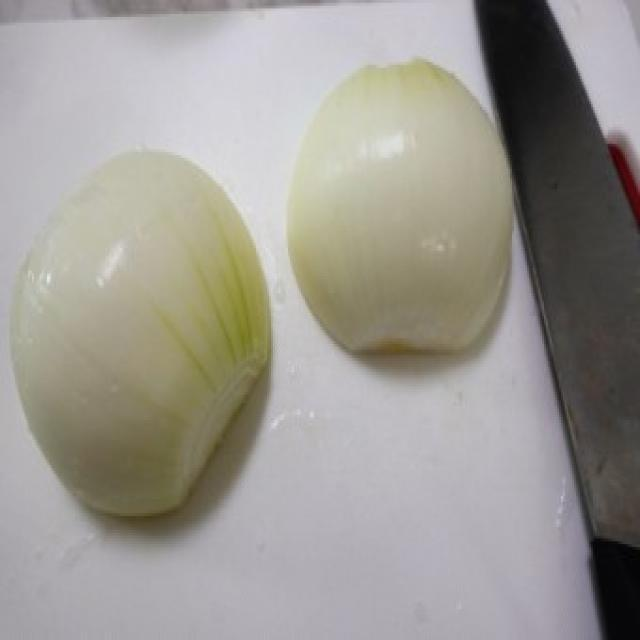onion: (4, 132, 280, 540), (284, 51, 532, 380)
